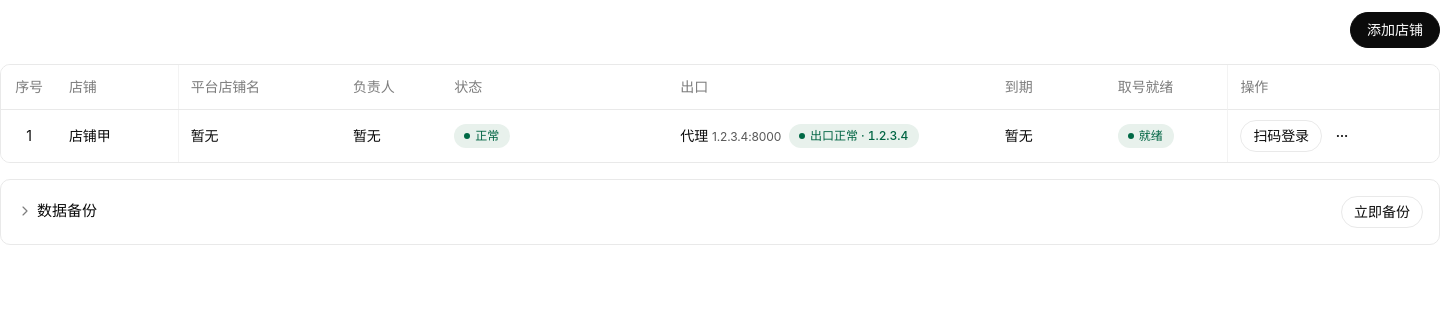
Scenario: 店铺与设置页 › 扫码登录失败（409 预检）显示后端的中文原因
This screenshot has width=1452, height=332.
Click the button "扫码登录": point(1281, 136) [1240,120,1322,152]
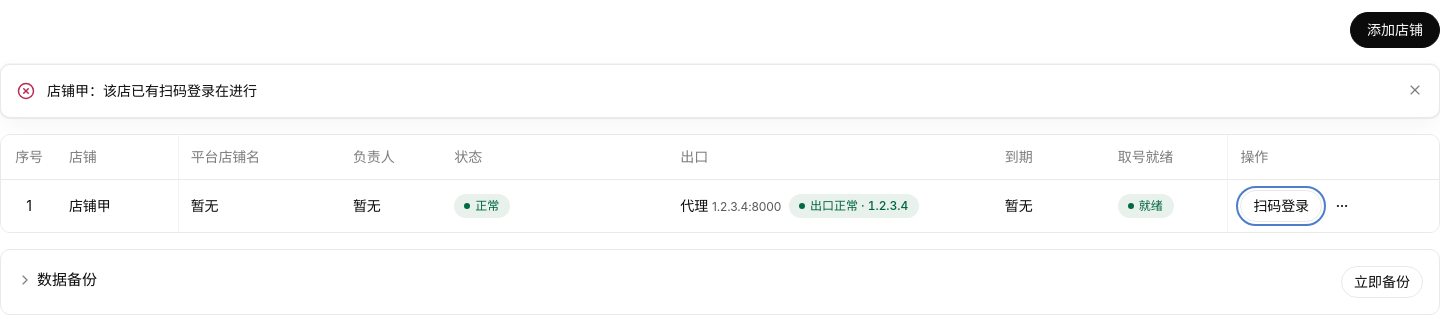
Expected: the text "店铺甲：该店已有扫码登录在进行" is shown, [47,82,257,99]
